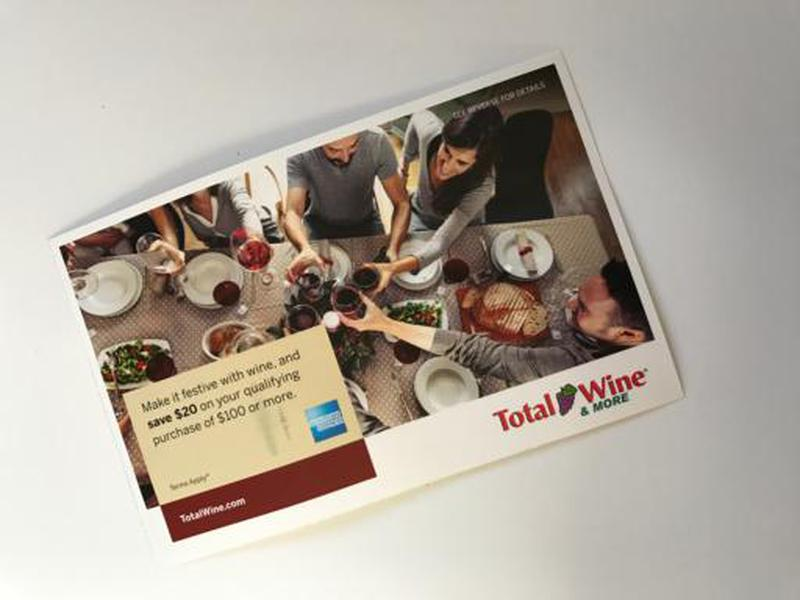paper: (47, 47, 692, 567)
